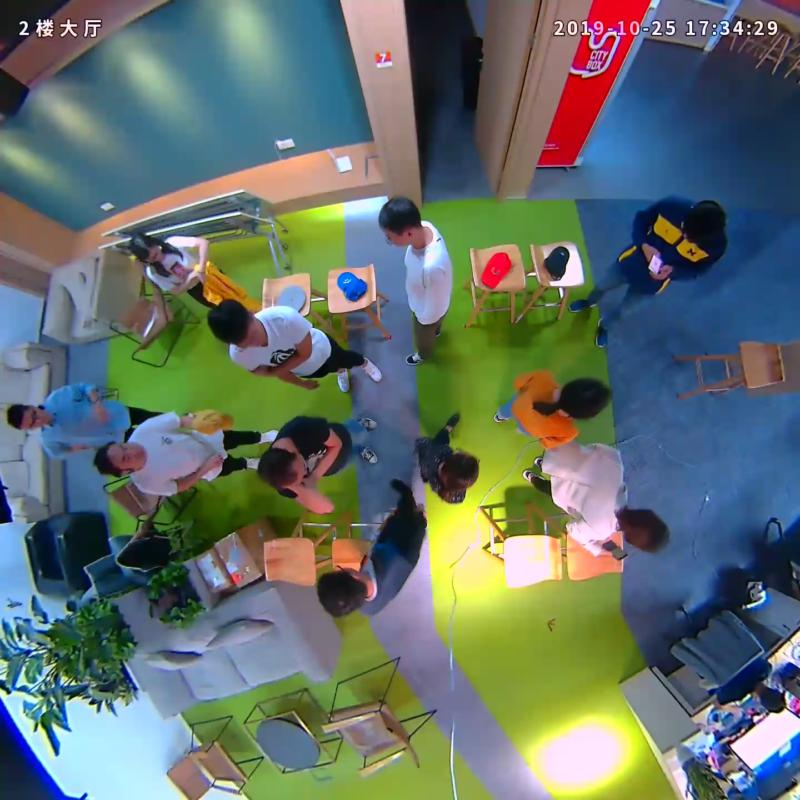head: (206, 298, 264, 348), (316, 567, 367, 620), (618, 508, 668, 553), (257, 446, 307, 491), (378, 196, 421, 248), (558, 378, 609, 421), (94, 442, 147, 479), (682, 205, 726, 247), (438, 452, 479, 491), (6, 402, 49, 432), (129, 231, 164, 264)
